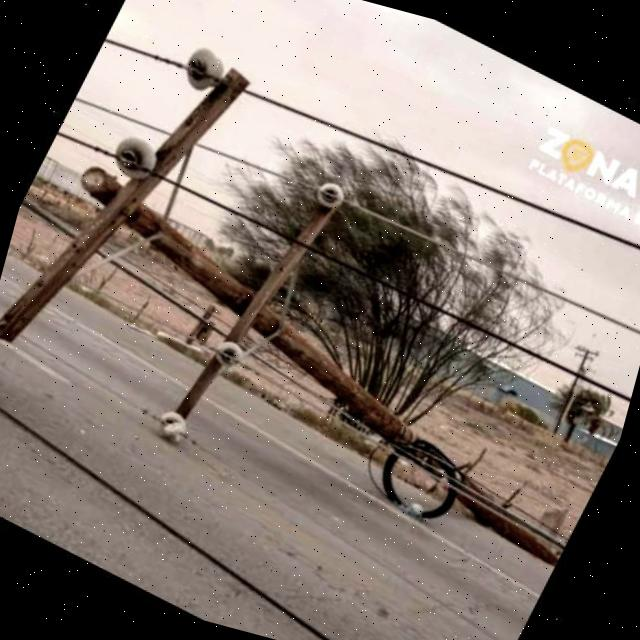Broken Pole: (0, 34, 558, 574)
